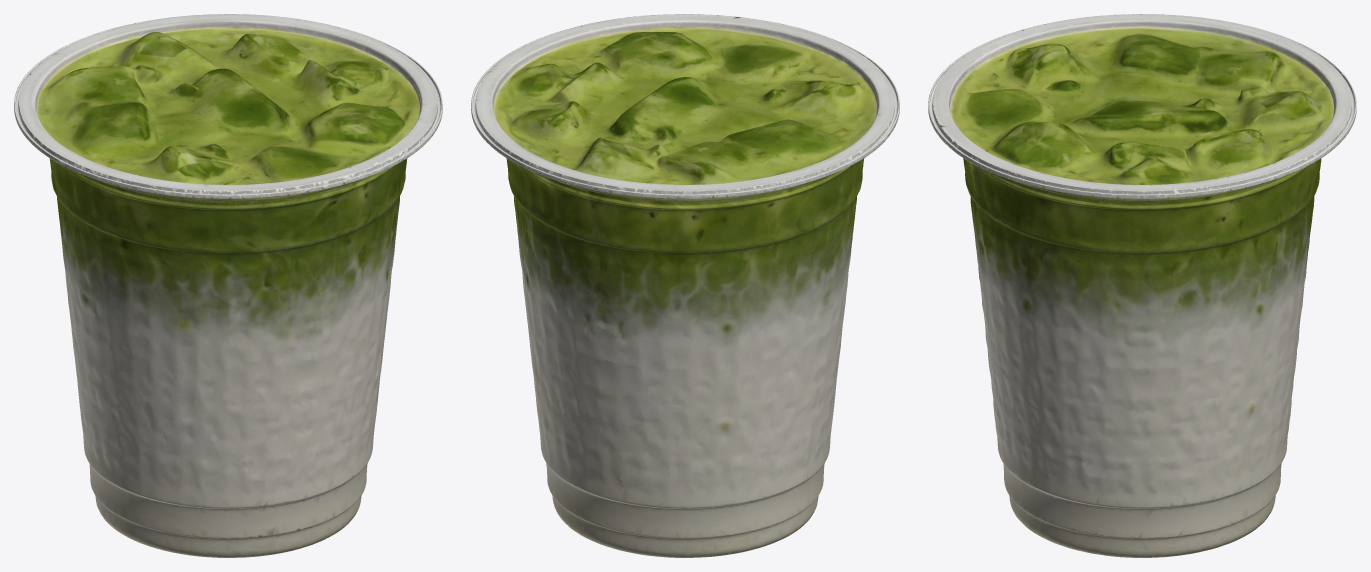
The model's file is matcha-latte-web-meshopt.glb.
3 views of the same model, side by side, from view 1: azimuth 30°, elevation 25°; view 2: azimuth 150°, elevation 25°; view 3: azimuth 270°, elevation 25° (orthographic).
Size of the model in its own units: 1.79 by 1.9 by 1.79.
Materials: 1 (1 with a texture image).
